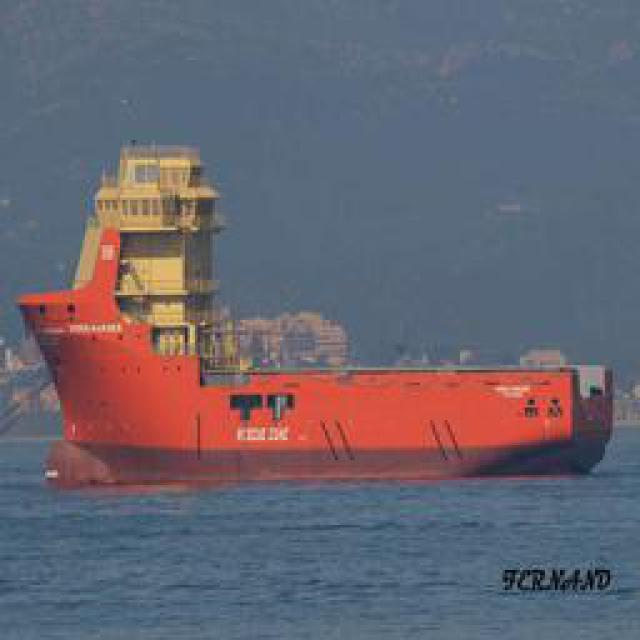Ship: (15, 147, 603, 495)
